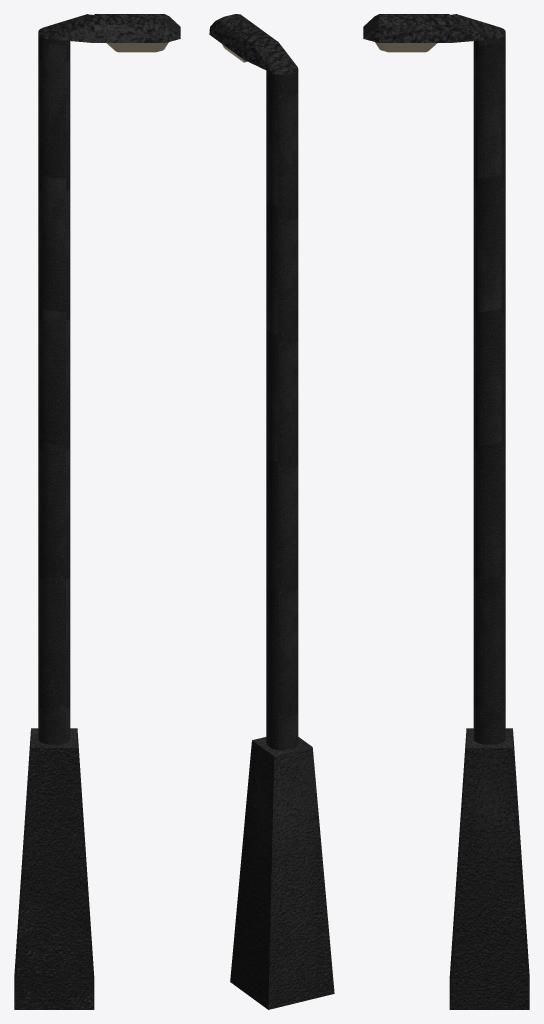
The model's file is lampPost.fbx.
3 views of the same model, side by side, from view 1: azimuth 90°, elevation 25°; view 2: azimuth 210°, elevation 25°; view 3: azimuth 270°, elevation 25° (orthographic). The views are drawn at different scales.
Parts seen in each view (by area): view 1: Cube; view 2: Cube; view 3: Cube.
Boxes of the visible parts, x1,y1,x2,y2 form: Cube: (14,14,180,1009); Cube: (209,14,334,1009); Cube: (363,14,529,1009).
Size of the model in its own units: 56.76 by 765 by 118.
